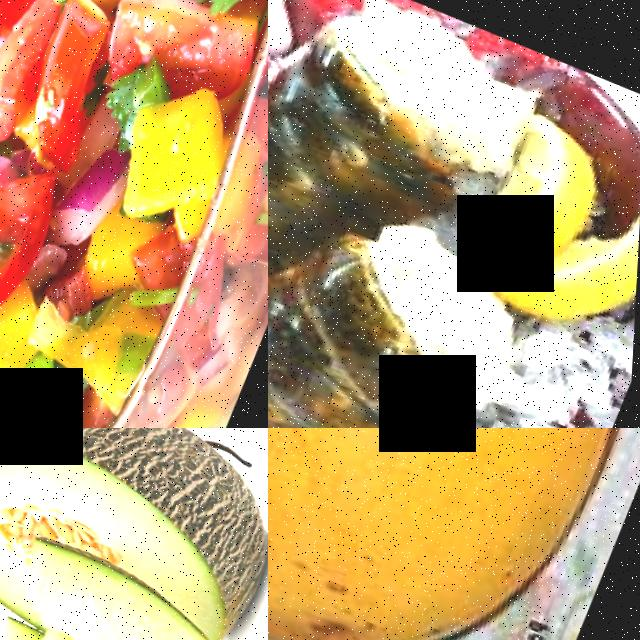lobster tails: (268, 193, 492, 428), (268, 18, 398, 336)
mango: (268, 428, 640, 640)
melon: (0, 428, 268, 610), (0, 526, 268, 640)
